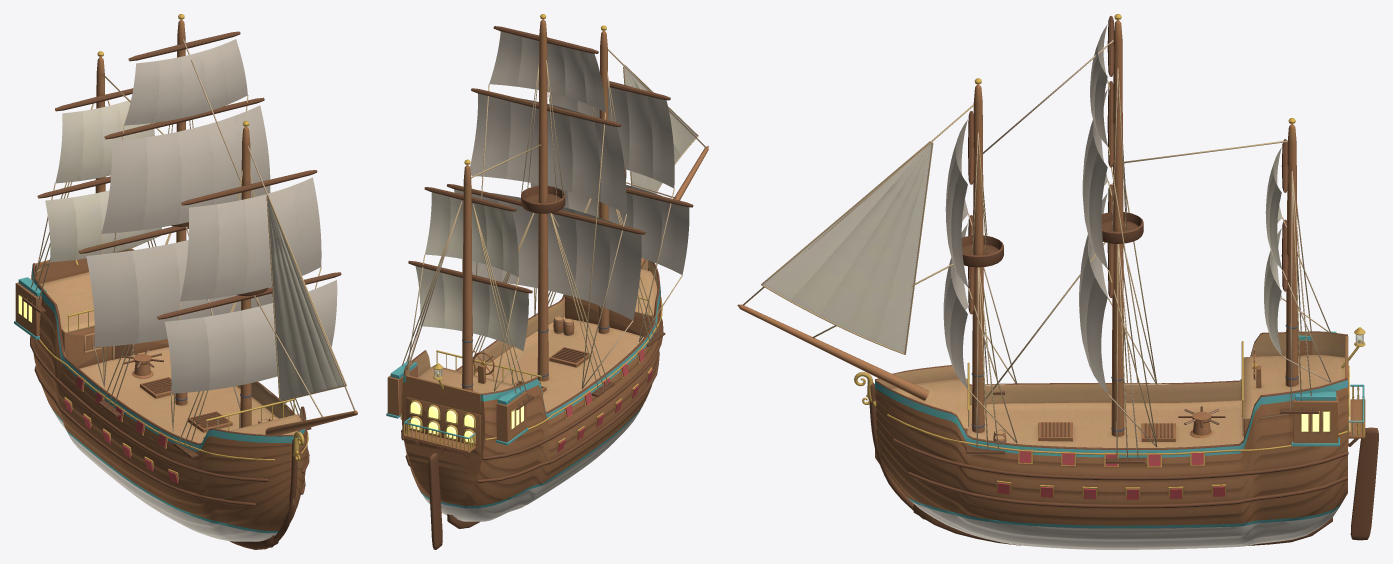
File: galleon.glb
The picture shows the model from 3 angles, left to right: view 1: azimuth 30°, elevation 25°; view 2: azimuth 150°, elevation 25°; view 3: azimuth 270°, elevation 25°; orthographic projection. The views are drawn at different scales.
Visible parts, largest first — view 1: galleon_body; view 2: galleon_body, galleon_window_glow; view 3: galleon_body.
Part boxes in pixels (box(x1,y1,x2,y2)): galleon_body: box(14, 14, 357, 549); galleon_body: box(386, 14, 708, 549); galleon_window_glow: box(410, 402, 523, 442); galleon_body: box(737, 14, 1378, 549).
Bounding box in the file's own units: 12.2 × 27.36 × 29.85.
5 materials, 1 textured.
